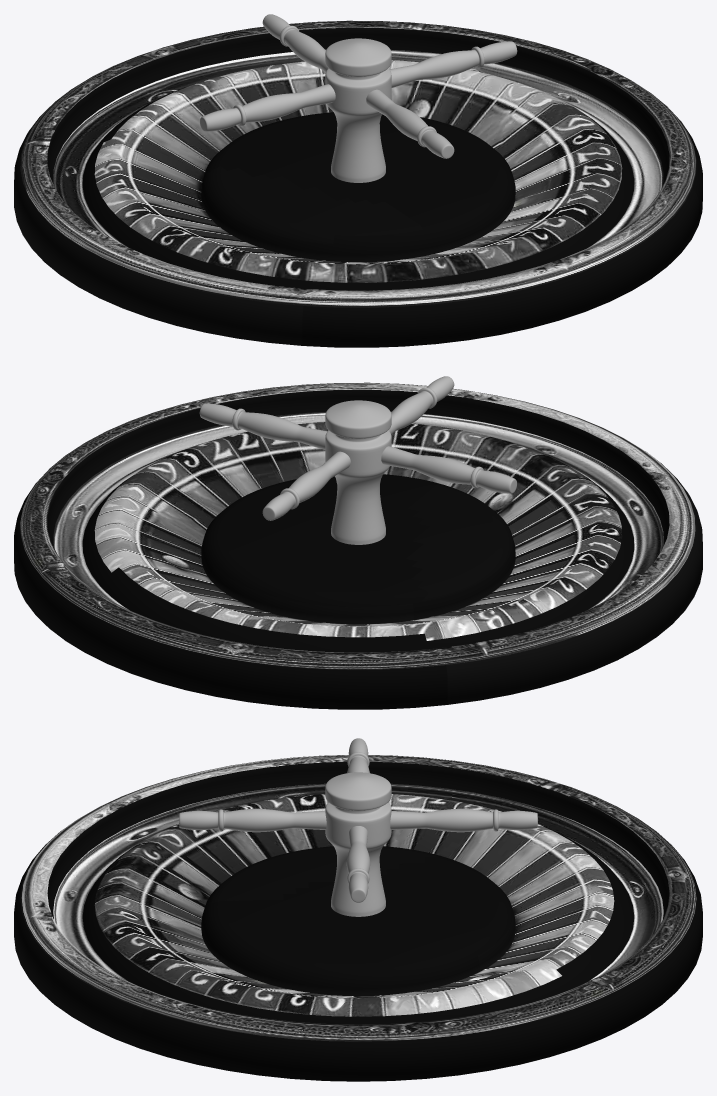
The model's file is roulette.glb.
3 renders of one model, top to bottom at view 1: azimuth 30°, elevation 25°; view 2: azimuth 150°, elevation 25°; view 3: azimuth 270°, elevation 25°, orthographic.
Parts seen in each view (by area): view 1: 18829_Roulette_Wheel_v1.001; view 2: 18829_Roulette_Wheel_v1.001; view 3: 18829_Roulette_Wheel_v1.001.
Part boxes in pixels (x1,y1,x2,y2): 18829_Roulette_Wheel_v1.001: (14, 14, 702, 347); 18829_Roulette_Wheel_v1.001: (14, 376, 702, 709); 18829_Roulette_Wheel_v1.001: (14, 738, 702, 1081).
Bounding box in the file's own units: 8.98 × 2.27 × 8.98.
2 materials, 1 textured.
